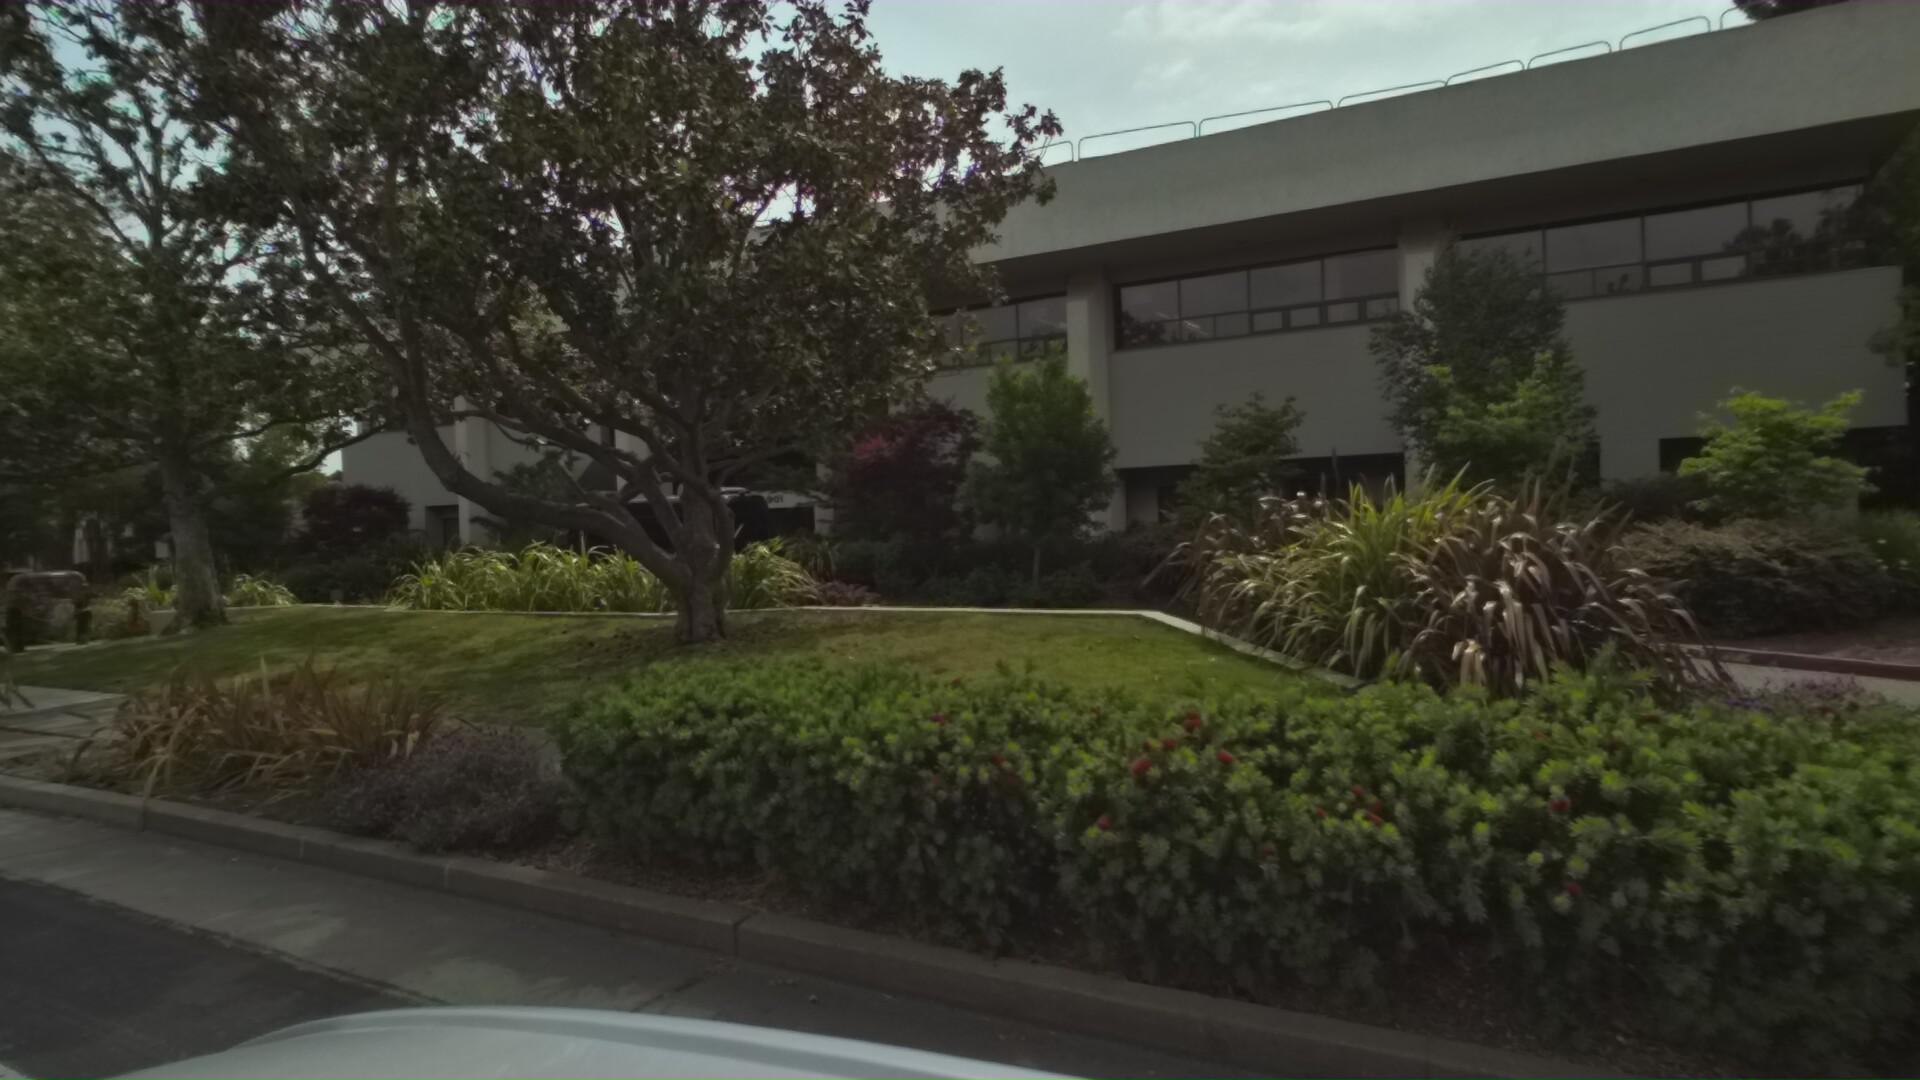car: (506, 477, 804, 615)
